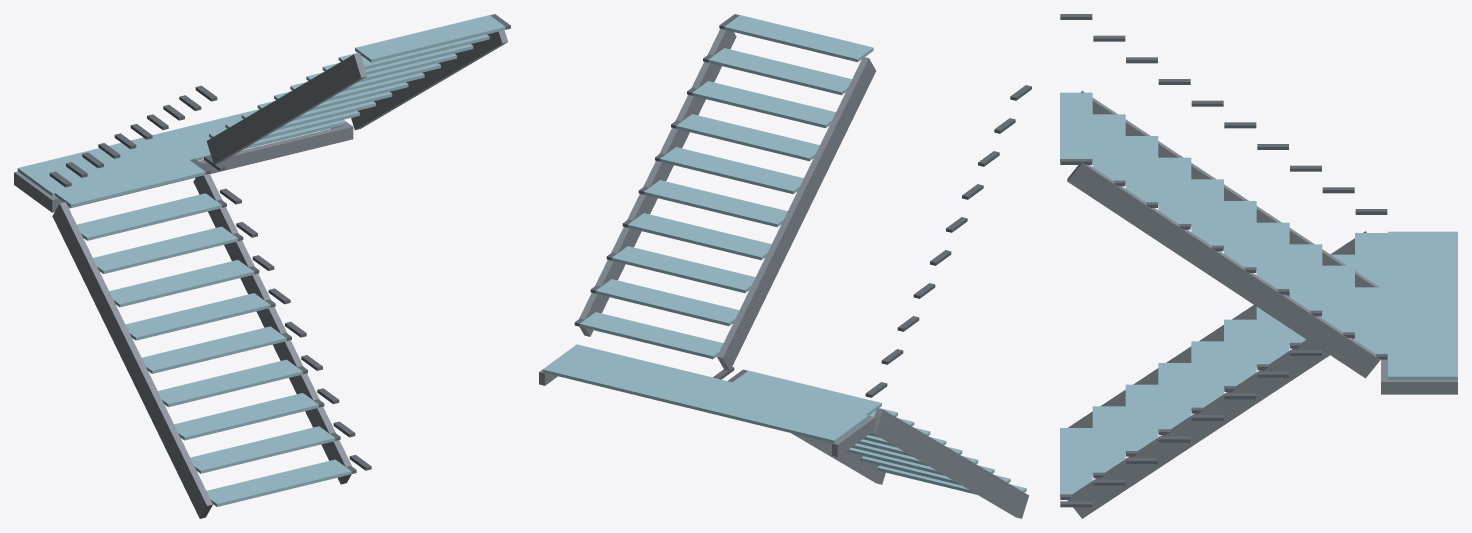
File: glass-stairs.glb
The picture shows the model from 3 angles, left to right: view 1: azimuth 30°, elevation 25°; view 2: azimuth 150°, elevation 25°; view 3: azimuth 270°, elevation 25°; orthographic projection.
Visible parts, largest first — view 1: material-1-glass, material-0-metal, material-2-trim; view 2: material-1-glass, material-0-metal, material-2-trim; view 3: material-1-glass, material-0-metal, material-2-trim.
Boxes of the visible parts, <box> form: material-1-glass: <box>17,15,505,506</box>; material-0-metal: <box>14,30,507,518</box>; material-2-trim: <box>49,14,510,473</box>; material-1-glass: <box>542,15,1026,494</box>; material-0-metal: <box>539,29,1029,518</box>; material-2-trim: <box>574,14,1031,460</box>; material-1-glass: <box>1060,92,1457,496</box>; material-0-metal: <box>1067,90,1457,518</box>; material-2-trim: <box>1060,14,1387,507</box>.
Bounding box in the file's own units: 2.51 × 3.41 × 2.84.
